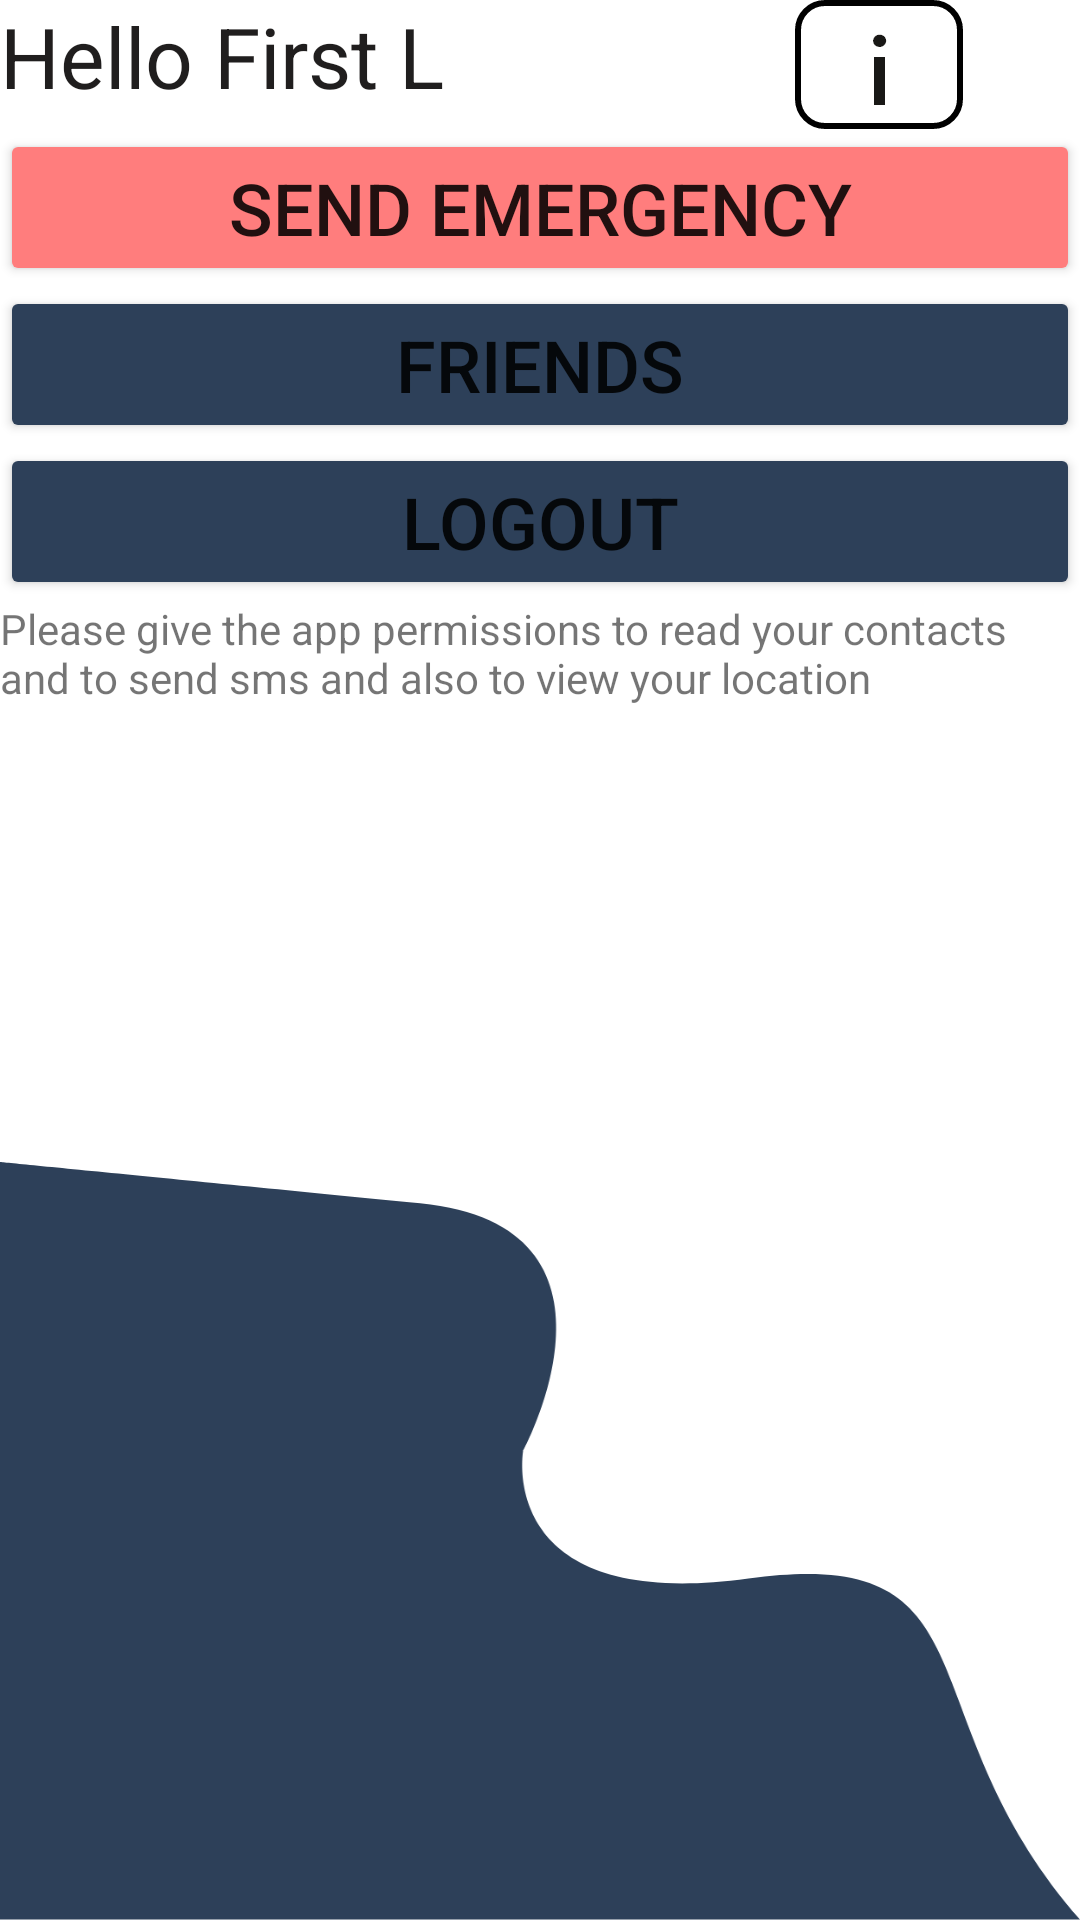

Where icons sit on this 1080×1920 app screen, as (x1, y1, x2, y2):
info: (795, 0, 963, 129)
